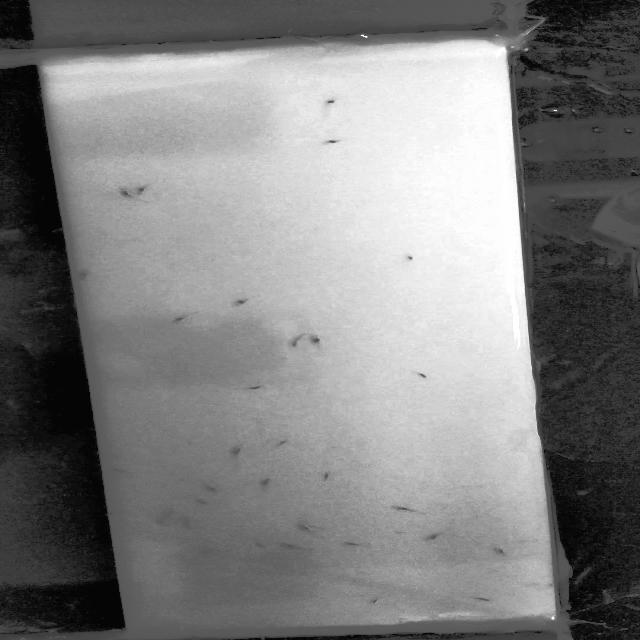shrimp: (228, 286, 264, 310), (124, 178, 154, 202), (146, 508, 180, 523), (296, 522, 327, 538), (494, 545, 521, 563), (266, 438, 294, 453), (168, 311, 198, 325), (236, 382, 270, 394), (309, 335, 333, 351), (284, 540, 313, 553), (314, 466, 335, 483), (318, 98, 350, 109), (206, 482, 235, 494), (386, 504, 420, 514), (424, 530, 452, 542), (254, 474, 275, 490), (286, 333, 308, 348), (184, 492, 210, 504), (224, 443, 248, 456), (78, 265, 97, 281), (119, 183, 138, 199), (104, 466, 134, 476), (365, 592, 388, 604), (176, 517, 198, 528), (327, 135, 345, 148), (195, 547, 222, 555), (402, 250, 421, 261), (407, 374, 436, 381), (98, 450, 118, 460), (346, 540, 370, 548), (103, 504, 118, 516), (468, 596, 496, 602), (257, 537, 269, 551)
